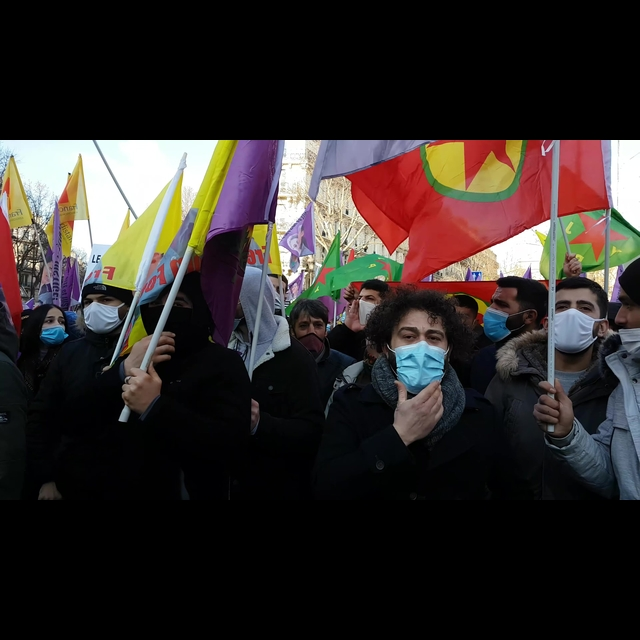PKK: (422, 138, 537, 205)
